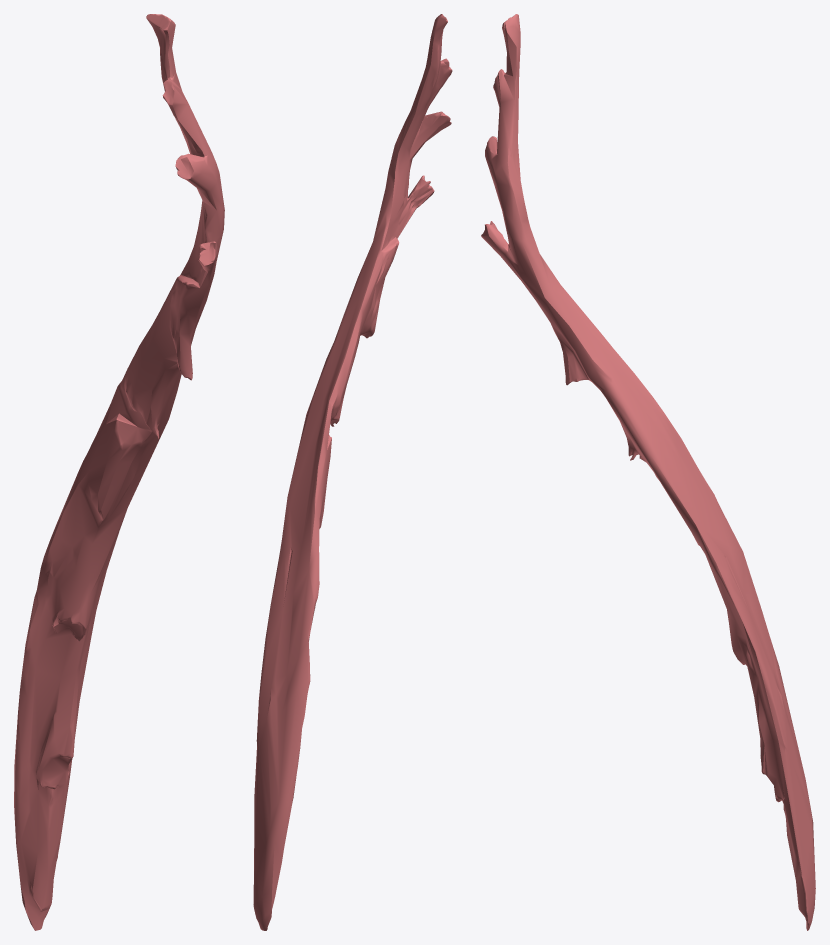
3 views of the same model, side by side, from view 1: azimuth 30°, elevation 25°; view 2: azimuth 150°, elevation 25°; view 3: azimuth 270°, elevation 25° (orthographic). The views are drawn at different scales.
Parts seen in each view (by area): view 1: FJ1534M; view 2: FJ1534M; view 3: FJ1534M.
Part boxes in pixels (box(x1,y1,x2,y2)): FJ1534M: box(14, 14, 224, 930); FJ1534M: box(253, 14, 452, 930); FJ1534M: box(481, 14, 815, 930).
Bounding box in the file's own units: 0.0198 × 0.1947 × 0.0663.
